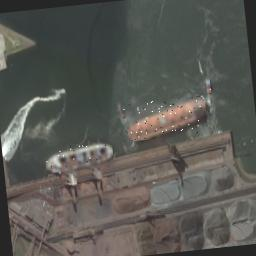boat: (124, 95, 208, 141), (44, 140, 114, 173), (116, 101, 124, 117), (205, 76, 211, 92)
